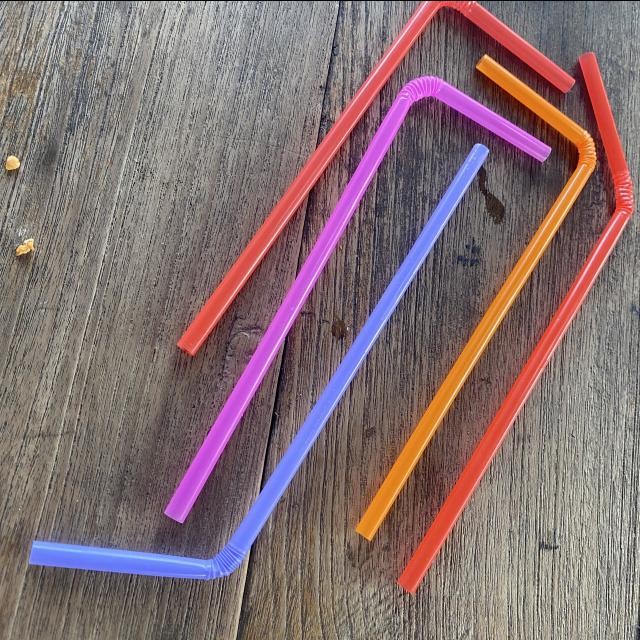plastik: (29, 144, 488, 579), (165, 75, 551, 521), (178, 0, 575, 353), (398, 51, 634, 593), (357, 54, 596, 538)
